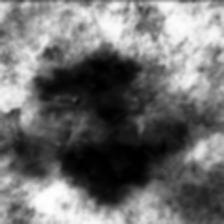Potentially Malignant Skin Tumors: (27, 39, 176, 194)
